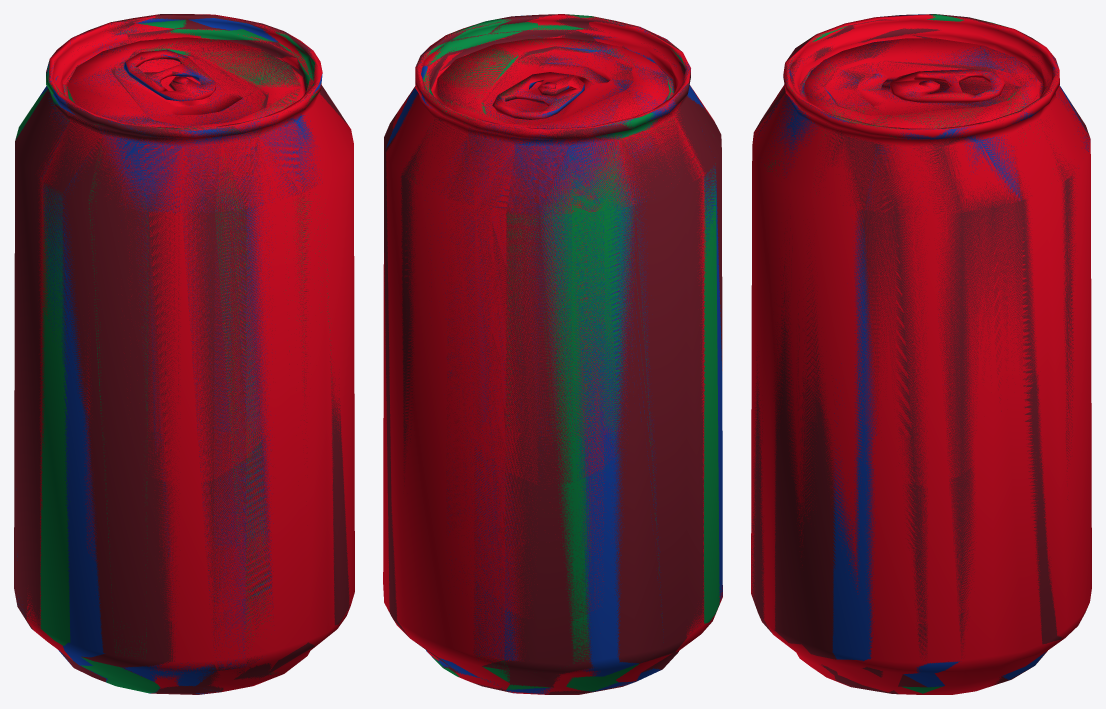
Rendered from All_Six_Soda_Cans_Optimized.fbx.
The picture shows the model from 3 angles, left to right: view 1: azimuth 30°, elevation 25°; view 2: azimuth 150°, elevation 25°; view 3: azimuth 270°, elevation 25°; orthographic projection.
Parts seen in each view (by area): view 1: Can_CocaCola, Can_DrPepper, Can_Pepsi, Can_CocaColaZero, Can_Sprite; view 2: Can_DrPepper, Can_CocaCola, Can_CocaColaZero, Can_Pepsi, Can_Sprite; view 3: Can_CocaColaZero, Can_CocaCola, Can_DrPepper, Can_Pepsi, Can_Sprite.
Part boxes in pixels (left/top/right/bottom): Can_CocaCola: left=26, top=14, right=354, bottom=689; Can_DrPepper: left=14, top=14, right=350, bottom=694; Can_Pepsi: left=16, top=18, right=322, bottom=694; Can_CocaColaZero: left=46, top=14, right=354, bottom=693; Can_Sprite: left=15, top=17, right=332, bottom=693; Can_DrPepper: left=384, top=14, right=722, bottom=694; Can_CocaCola: left=386, top=14, right=722, bottom=694; Can_CocaColaZero: left=383, top=14, right=689, bottom=694; Can_Pepsi: left=385, top=15, right=722, bottom=694; Can_Sprite: left=410, top=14, right=719, bottom=691; Can_CocaColaZero: left=751, top=14, right=1091, bottom=694; Can_CocaCola: left=751, top=15, right=1091, bottom=694; Can_DrPepper: left=751, top=14, right=1089, bottom=694; Can_Pepsi: left=757, top=14, right=1089, bottom=687; Can_Sprite: left=764, top=14, right=1055, bottom=693.
Size of the model in its own units: 6.59 by 12.23 by 6.59.
